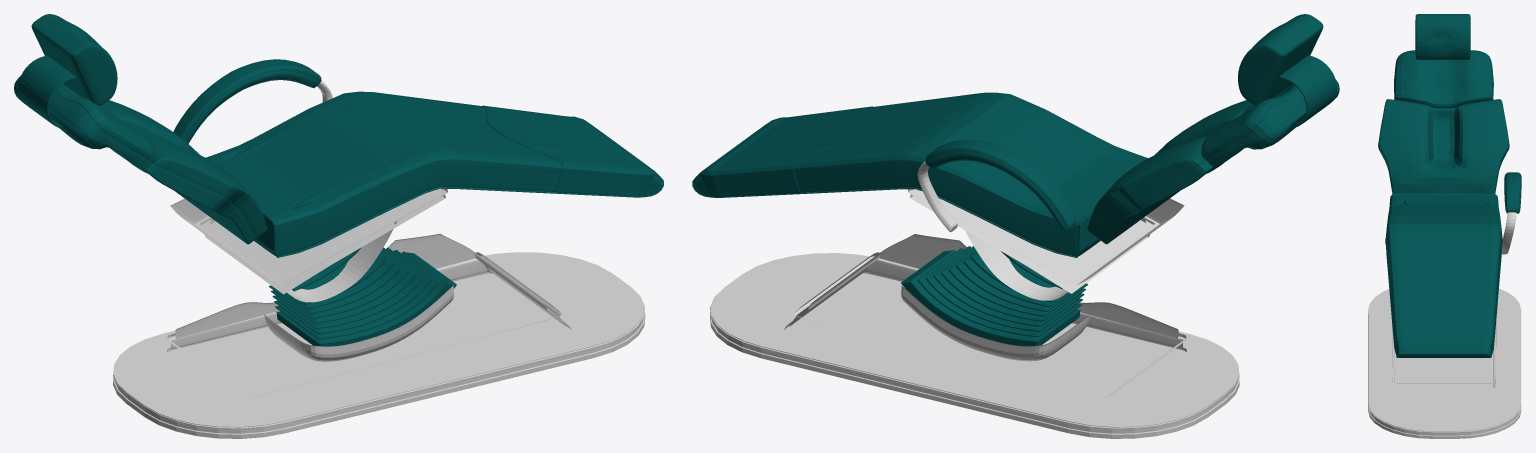
The model's file is Chair.glb.
3 views of the same model, side by side, from view 1: azimuth 30°, elevation 25°; view 2: azimuth 150°, elevation 25°; view 3: azimuth 270°, elevation 25° (orthographic). The views are drawn at different scales.
Visible parts, largest first — view 1: Dentist_s_place_of_work.002_Dentist_s_place_of_work.001, Dentist_s_place_of_work.005_Dentist_s_place_of_work.004, Dentist_s_place_of_work.006_Dentist_s_place_of_work.005, Dentist_s_place_of_work.004_Dentist_s_place_of_work.003, Dentist_s_place_of_work.008_Dentist_s_place_of_work.007, Dentist_s_place_of_work.009_Dentist_s_place_of_work.008, Dentist_s_place_of_work.007_Dentist_s_place_of_work.006; view 2: Dentist_s_place_of_work.002_Dentist_s_place_of_work.001, Dentist_s_place_of_work.005_Dentist_s_place_of_work.004, Dentist_s_place_of_work.006_Dentist_s_place_of_work.005, Dentist_s_place_of_work.004_Dentist_s_place_of_work.003, Dentist_s_place_of_work.008_Dentist_s_place_of_work.007, Dentist_s_place_of_work.009_Dentist_s_place_of_work.008, Dentist_s_place_of_work.007_Dentist_s_place_of_work.006, Dentist_s_place_of_work.010_Dentist_s_place_of_work.009; view 3: Dentist_s_place_of_work.002_Dentist_s_place_of_work.001, Dentist_s_place_of_work.005_Dentist_s_place_of_work.004, Dentist_s_place_of_work.009_Dentist_s_place_of_work.008, Dentist_s_place_of_work.004_Dentist_s_place_of_work.003, Dentist_s_place_of_work.010_Dentist_s_place_of_work.009.
Boxes of the visible parts, bbox=[...] form: Dentist_s_place_of_work.002_Dentist_s_place_of_work.001: bbox=[14, 14, 663, 257]; Dentist_s_place_of_work.005_Dentist_s_place_of_work.004: bbox=[113, 252, 645, 438]; Dentist_s_place_of_work.006_Dentist_s_place_of_work.005: bbox=[269, 247, 456, 346]; Dentist_s_place_of_work.004_Dentist_s_place_of_work.003: bbox=[167, 233, 571, 397]; Dentist_s_place_of_work.008_Dentist_s_place_of_work.007: bbox=[170, 188, 447, 285]; Dentist_s_place_of_work.009_Dentist_s_place_of_work.008: bbox=[173, 59, 321, 143]; Dentist_s_place_of_work.007_Dentist_s_place_of_work.006: bbox=[200, 188, 445, 302]; Dentist_s_place_of_work.002_Dentist_s_place_of_work.001: bbox=[692, 14, 1339, 257]; Dentist_s_place_of_work.005_Dentist_s_place_of_work.004: bbox=[710, 253, 1239, 438]; Dentist_s_place_of_work.006_Dentist_s_place_of_work.005: bbox=[901, 246, 1087, 346]; Dentist_s_place_of_work.004_Dentist_s_place_of_work.003: bbox=[784, 234, 1186, 397]; Dentist_s_place_of_work.008_Dentist_s_place_of_work.007: bbox=[908, 189, 1184, 285]; Dentist_s_place_of_work.009_Dentist_s_place_of_work.008: bbox=[925, 139, 1076, 231]; Dentist_s_place_of_work.007_Dentist_s_place_of_work.006: bbox=[910, 189, 1154, 300]; Dentist_s_place_of_work.010_Dentist_s_place_of_work.009: bbox=[917, 161, 957, 232]; Dentist_s_place_of_work.002_Dentist_s_place_of_work.001: bbox=[1378, 14, 1509, 357]; Dentist_s_place_of_work.005_Dentist_s_place_of_work.004: bbox=[1368, 288, 1521, 438]; Dentist_s_place_of_work.009_Dentist_s_place_of_work.008: bbox=[1504, 172, 1521, 213]; Dentist_s_place_of_work.004_Dentist_s_place_of_work.003: bbox=[1392, 322, 1496, 387]; Dentist_s_place_of_work.010_Dentist_s_place_of_work.009: bbox=[1502, 212, 1516, 254].
Bounding box in the file's own units: 0.8369 × 0.5354 × 0.295.
